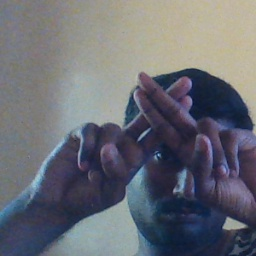F: (100, 69, 225, 179)
